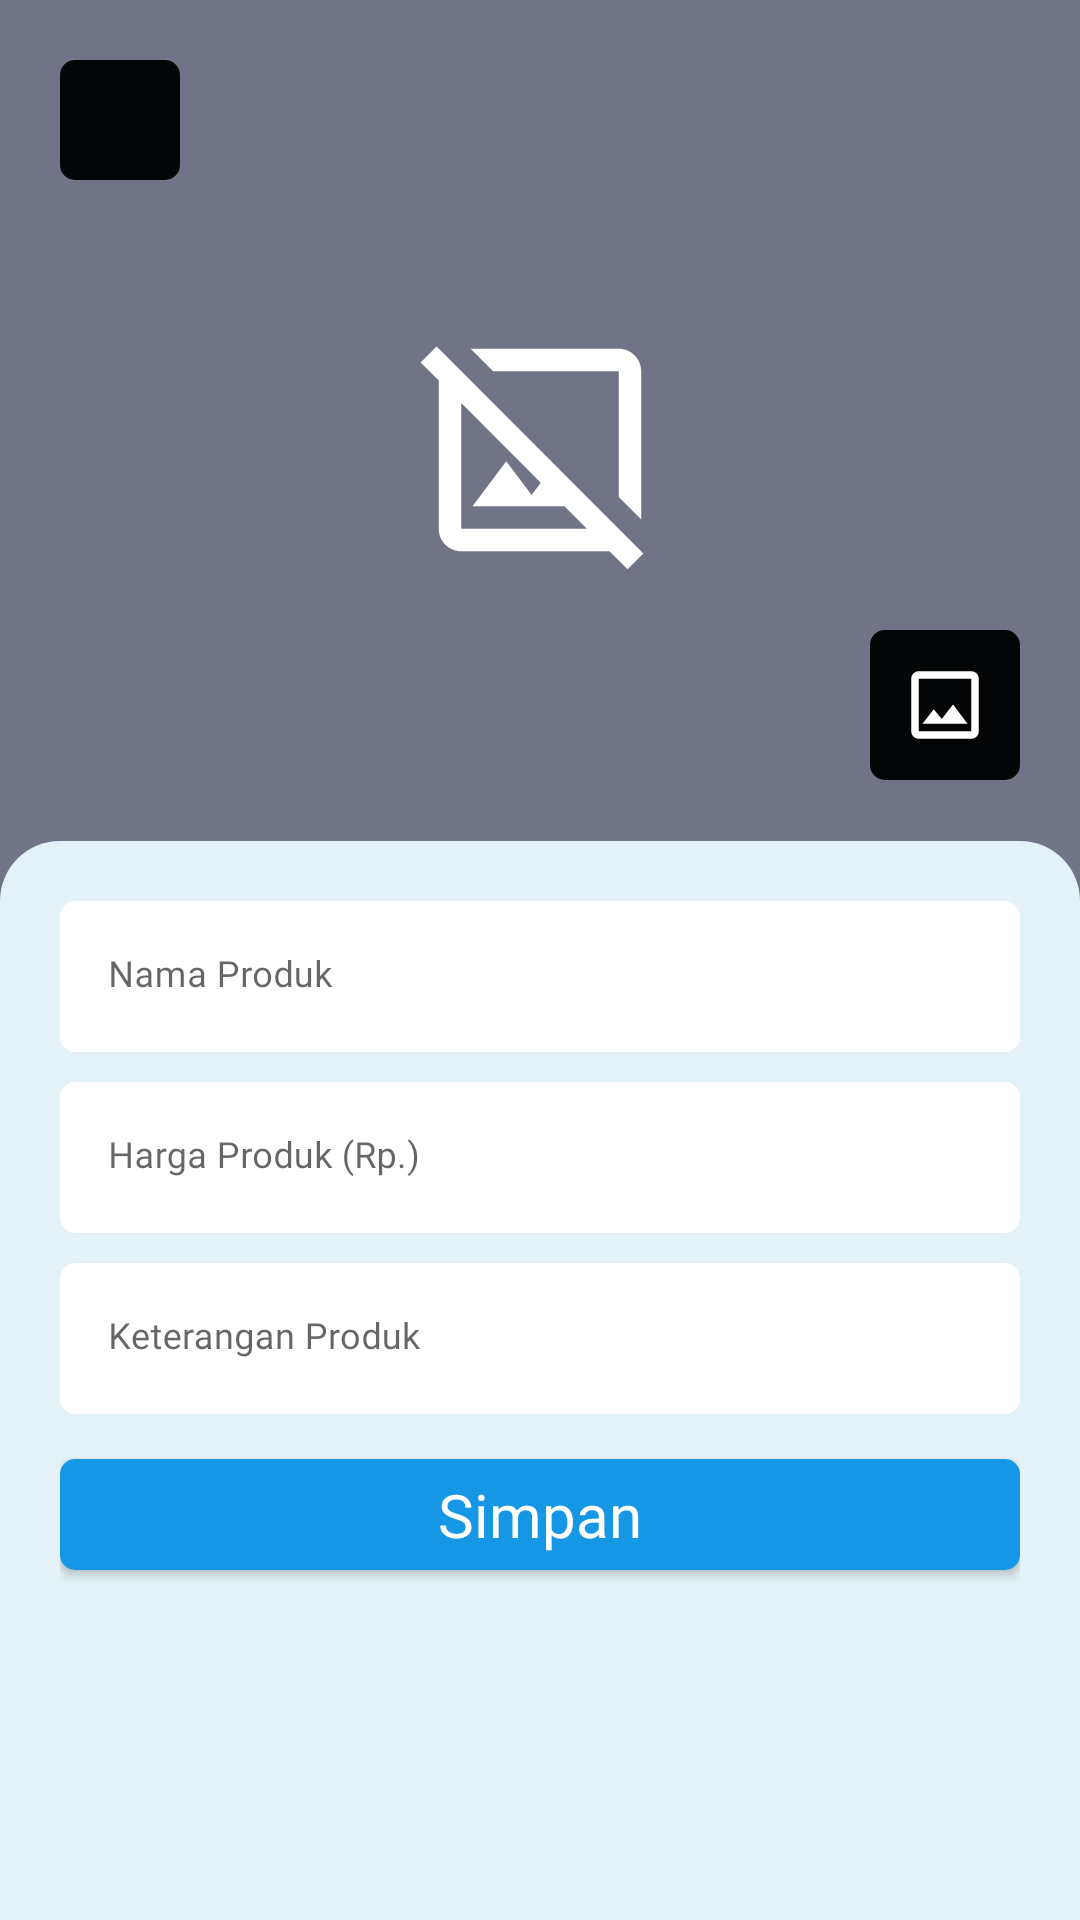

Where icons sit on this 1080 × 1920 app screen, as BBox(x1, y1, x2, y2):
pilih gambar: BBox(911, 671, 979, 739)
tidak ada gambar: BBox(421, 346, 643, 569)
